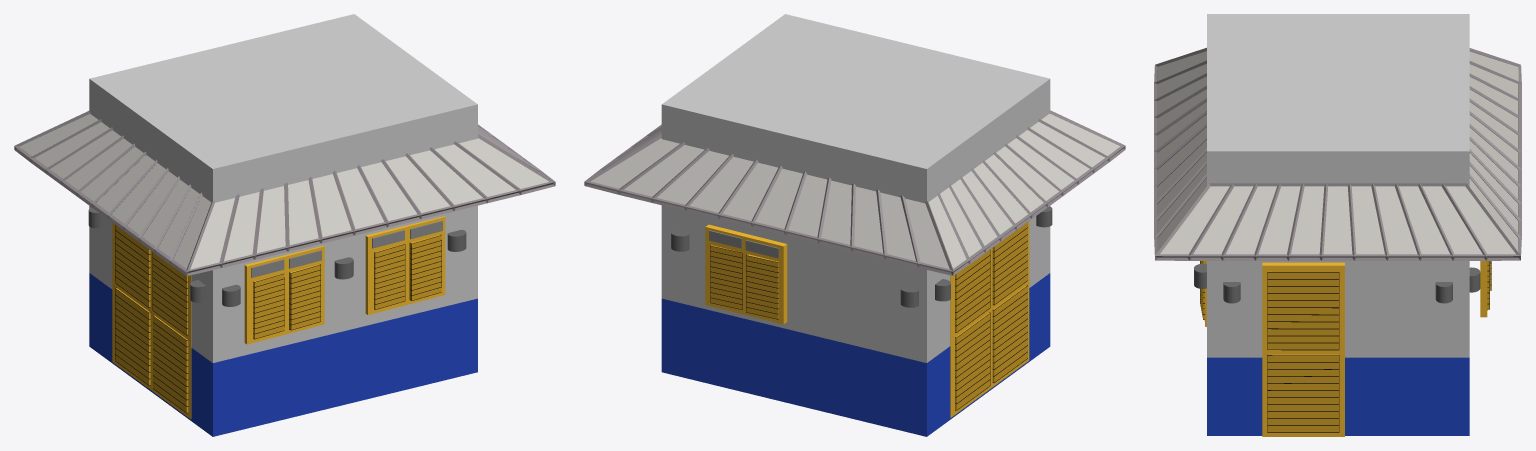
File: utility2.glb
The picture shows the model from 3 angles, left to right: view 1: azimuth 30°, elevation 25°; view 2: azimuth 150°, elevation 25°; view 3: azimuth 270°, elevation 25°; orthographic projection. The views are drawn at different scales.
Visible parts, largest first — view 1: utility 1; view 2: utility 1; view 3: utility 1.
Part boxes in pixels (x1,y1,x2,y2): utility 1: (14, 14, 555, 436); utility 1: (584, 14, 1125, 436); utility 1: (1154, 14, 1521, 436).
Size of the model in its own units: 2.67 by 1.84 by 2.16.
